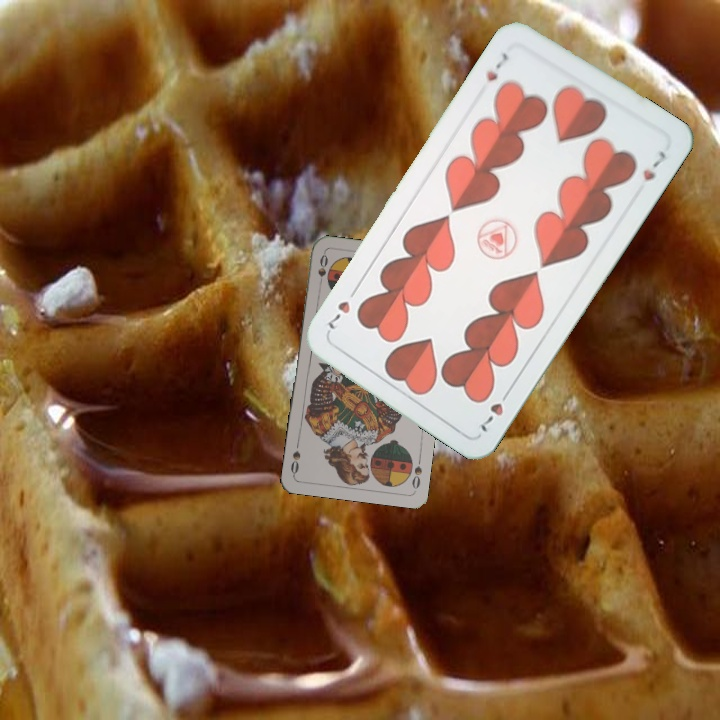H7: (473, 384, 514, 435), (482, 48, 513, 84)
SO: (408, 452, 425, 491), (314, 250, 330, 290)
